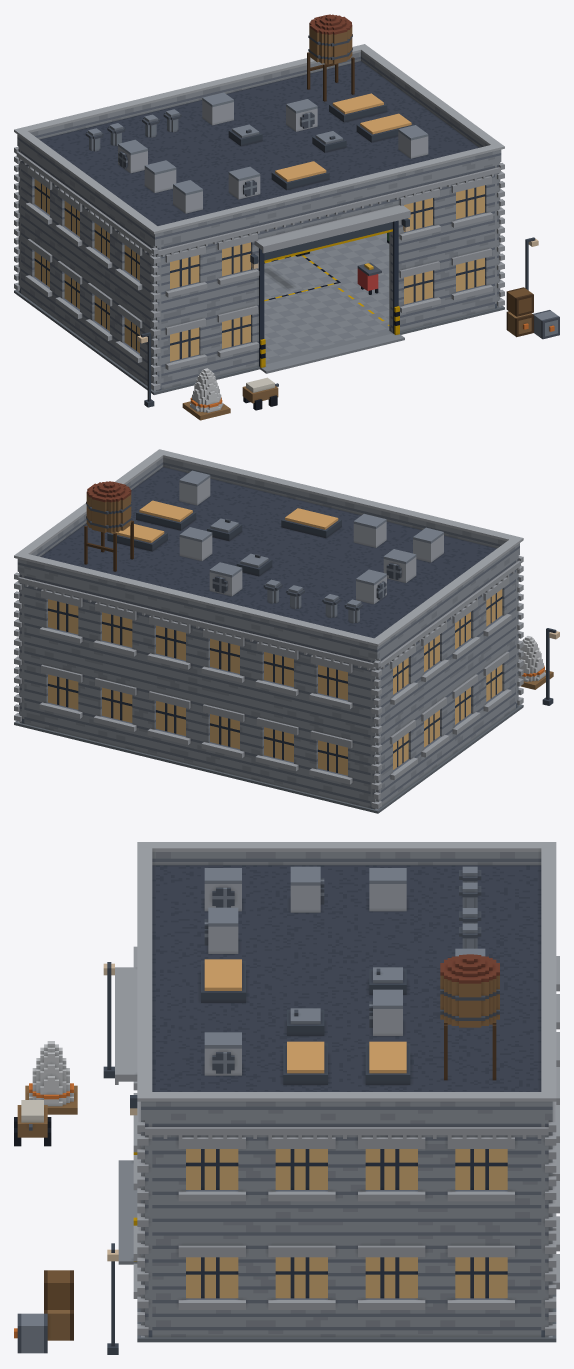
File: workshop_e2_l1.glb
The picture shows the model from 3 angles, top to bottom: view 1: azimuth 30°, elevation 25°; view 2: azimuth 150°, elevation 25°; view 3: azimuth 270°, elevation 25°; orthographic projection. The views are drawn at different scales.
Parts seen in each view (by area): view 1: CutRoof, CutPZ, Base, CutNX, CutNZ; view 2: CutRoof, CutNZ, CutNX, Base, CutPZ; view 3: CutRoof, CutPX, Base, CutPZ, CutNZ.
Boxes of the visible parts, x1,y1,x2,y2 form: CutRoof: [14, 14, 504, 246]; CutPZ: [150, 162, 504, 372]; Base: [14, 232, 559, 420]; CutNX: [16, 148, 153, 365]; CutNZ: [14, 146, 20, 272]; CutRoof: [14, 449, 523, 659]; CutNZ: [14, 572, 381, 789]; CutNX: [379, 558, 520, 784]; Base: [14, 628, 559, 813]; CutPZ: [516, 556, 523, 686]; CutRoof: [137, 842, 556, 1120]; CutPX: [145, 1120, 548, 1309]; Base: [14, 962, 556, 1354]; CutPZ: [115, 946, 152, 1308]; CutNZ: [541, 956, 559, 1308].
Size of the model in its own units: 18.4 by 10 by 14.6.
